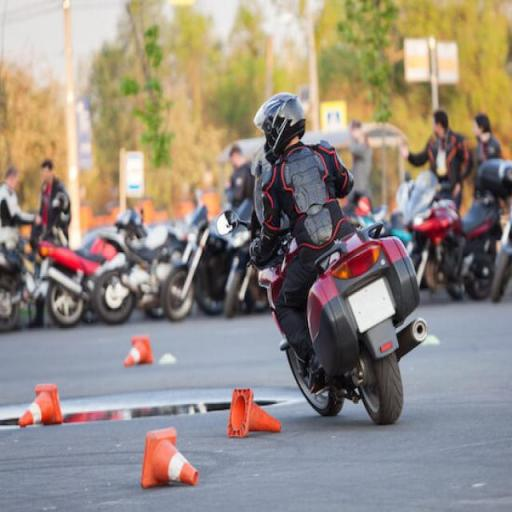Helmet: (250, 92, 306, 164)
Motor: (230, 232, 424, 429)
